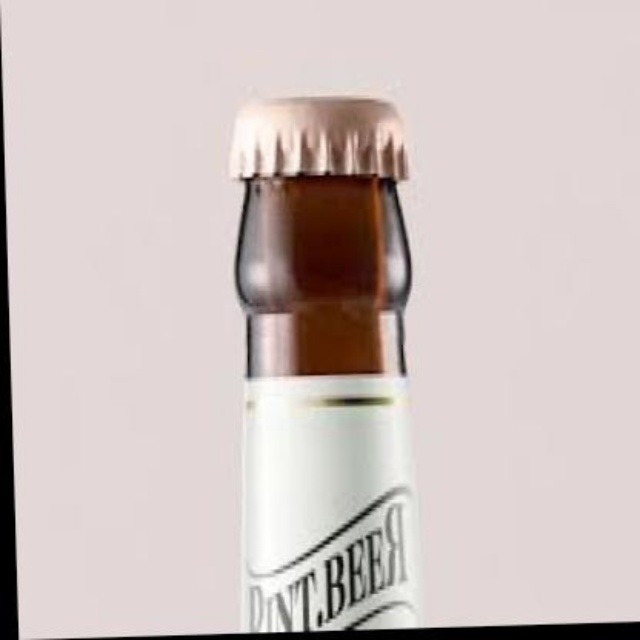trash: (231, 97, 418, 631)
